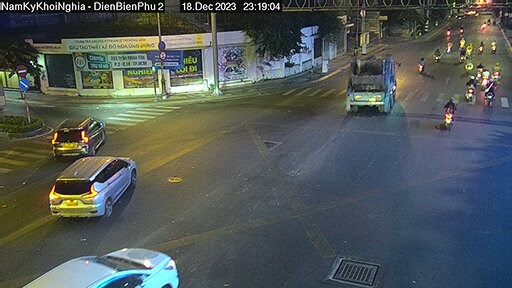car: (10, 243, 183, 288), (48, 154, 142, 215), (45, 105, 107, 148)
motorbike: (441, 97, 463, 129), (482, 80, 501, 108), (458, 77, 475, 102), (453, 43, 470, 62), (429, 43, 445, 63), (413, 57, 428, 75), (488, 36, 504, 51), (476, 37, 489, 53)
truck: (340, 44, 402, 114)
